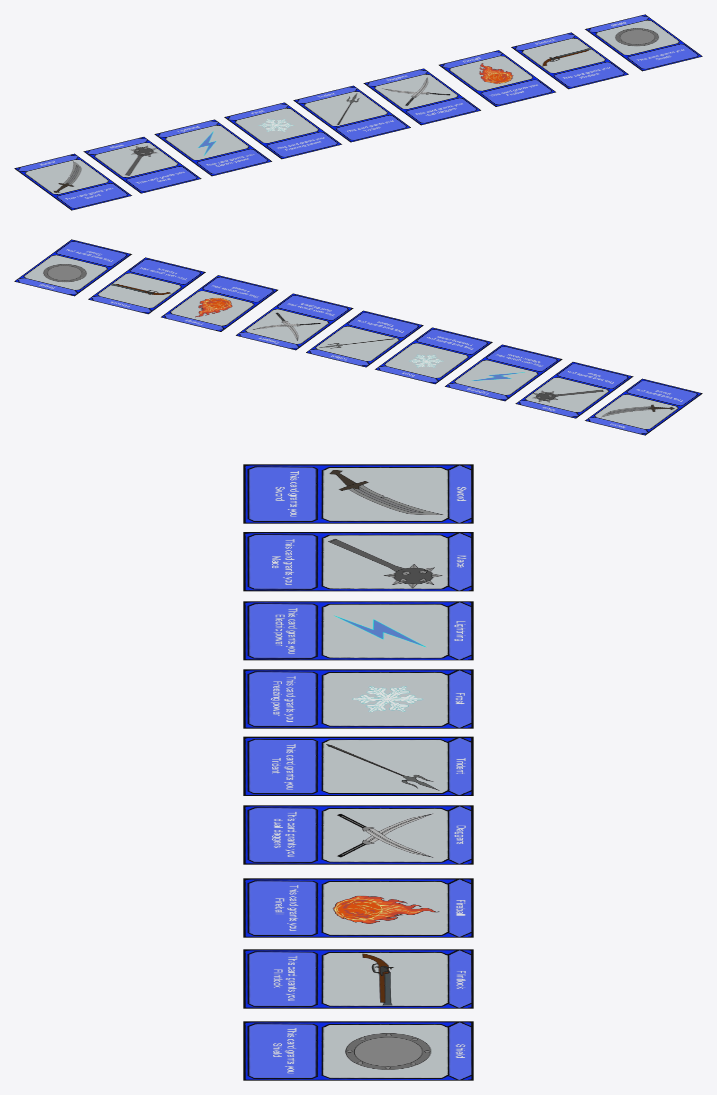
Rendered from Cards.fbx.
The picture shows the model from 3 angles, top to bottom: view 1: azimuth 30°, elevation 25°; view 2: azimuth 150°, elevation 25°; view 3: azimuth 270°, elevation 25°; orthographic projection. The views are drawn at different scales.
Parts seen in each view (by area): view 1: Mace.001, Daggers.001, Flintlock.001, Frost.001, Lightning.001, Shield.001, Sword.001, Trident.001, Fireball.001; view 2: Mace.001, Daggers.001, Flintlock.001, Frost.001, Lightning.001, Shield.001, Sword.001, Trident.001, Fireball.001; view 3: Daggers.001, Fireball.001, Flintlock.001, Frost.001, Lightning.001, Mace.001, Shield.001, Sword.001, Trident.001.
Part boxes in pixels (x1,y1,x2,y2): Mace.001: (83,137,201,193); Daggers.001: (363,68,480,125); Flintlock.001: (511,32,628,89); Frost.001: (224,102,341,159); Lightning.001: (154,119,271,176); Shield.001: (585,14,702,71); Sword.001: (14,153,131,210); Trident.001: (293,85,410,142); Fireball.001: (439,50,555,106); Mace.001: (515,362,633,418); Daggers.001: (236,293,353,350); Flintlock.001: (88,257,205,314); Frost.001: (375,327,492,384); Lightning.001: (445,344,562,401); Shield.001: (14,239,131,296); Sword.001: (585,378,702,435); Trident.001: (306,310,423,367); Fireball.001: (161,275,277,331); Daggers.001: (243,805,473,864); Fireball.001: (243,878,473,937); Flintlock.001: (243,949,473,1008); Frost.001: (243,669,473,728); Lightning.001: (243,601,473,660); Mace.001: (243,532,473,591); Shield.001: (243,1021,473,1080); Sword.001: (243,464,473,523); Trident.001: (243,736,473,795).
Size of the model in its own units: 158 by 0 by 25.
Materials: 9 (9 with a texture image).
